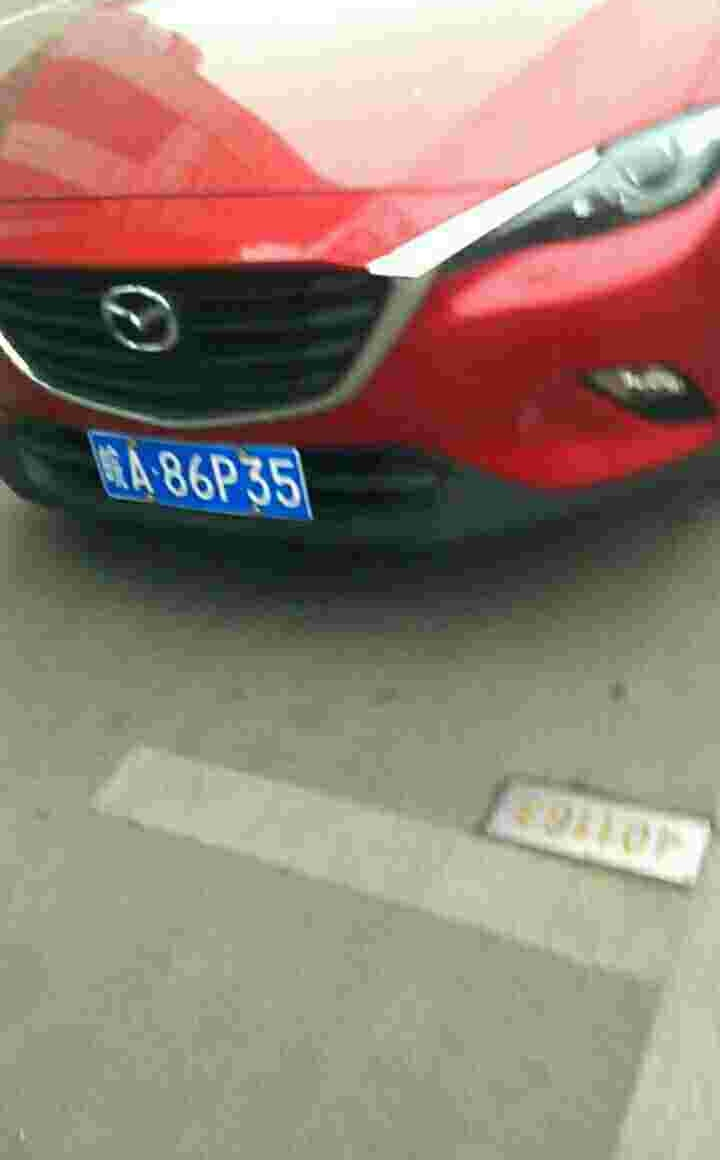plate: (80, 427, 101, 524)
